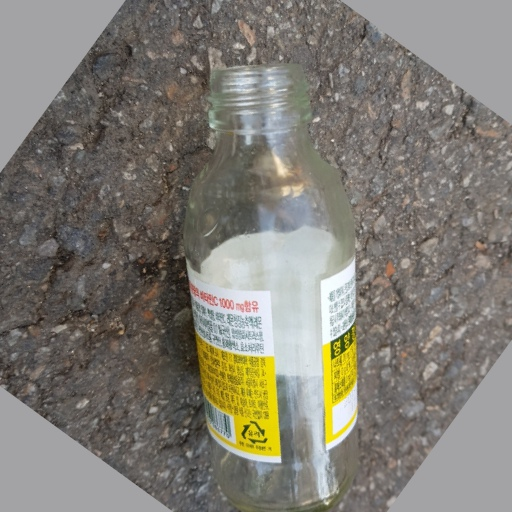Glass_4: (185, 62, 360, 512)
